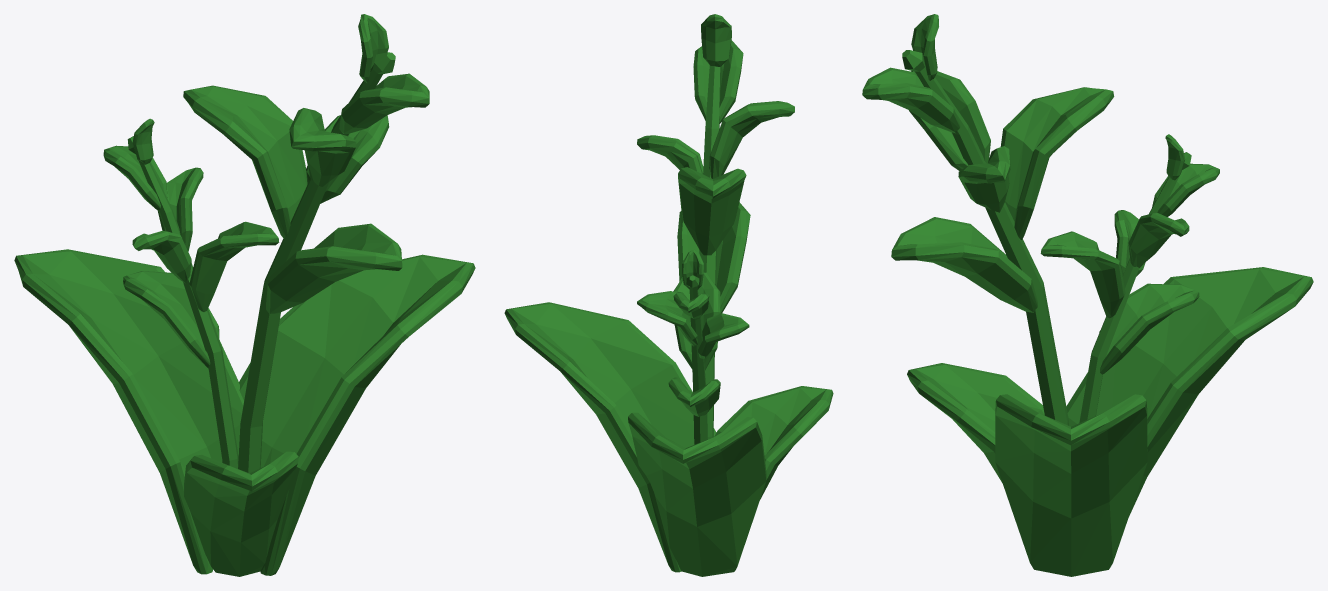
Rendered from Plant41.fbx.
The picture shows the model from 3 angles, left to right: view 1: azimuth 30°, elevation 25°; view 2: azimuth 150°, elevation 25°; view 3: azimuth 270°, elevation 25°; orthographic projection. The views are drawn at different scales.
Parts seen in each view (by area): view 1: Plant.055_Material.001_0; view 2: Plant.055_Material.001_0; view 3: Plant.055_Material.001_0.
Boxes of the visible parts, <box> form: Plant.055_Material.001_0: <box>14,14,475,576</box>; Plant.055_Material.001_0: <box>504,14,833,576</box>; Plant.055_Material.001_0: <box>862,14,1313,576</box>.
Bounding box in the file's own units: 655 × 1038 × 740.
